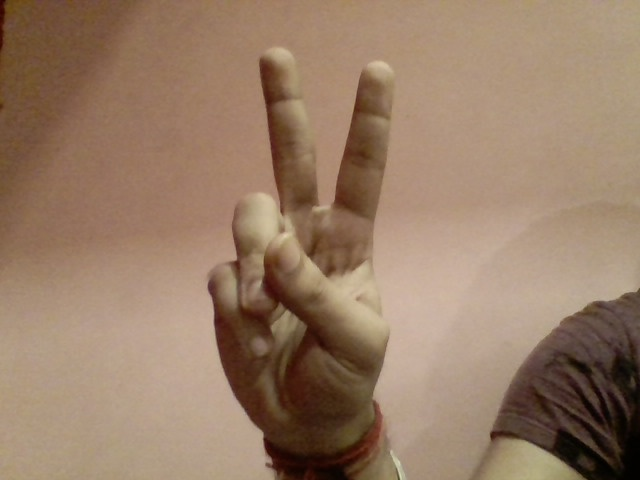v: (190, 41, 440, 434)
